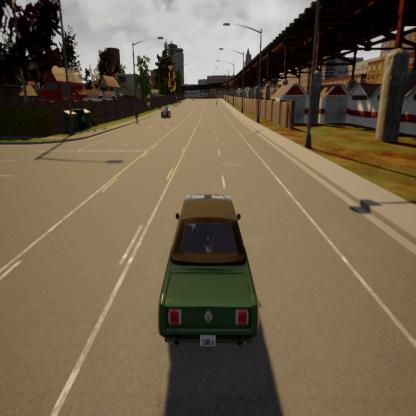Cars: (159, 193, 259, 348), (160, 106, 172, 118), (216, 98, 218, 108)
